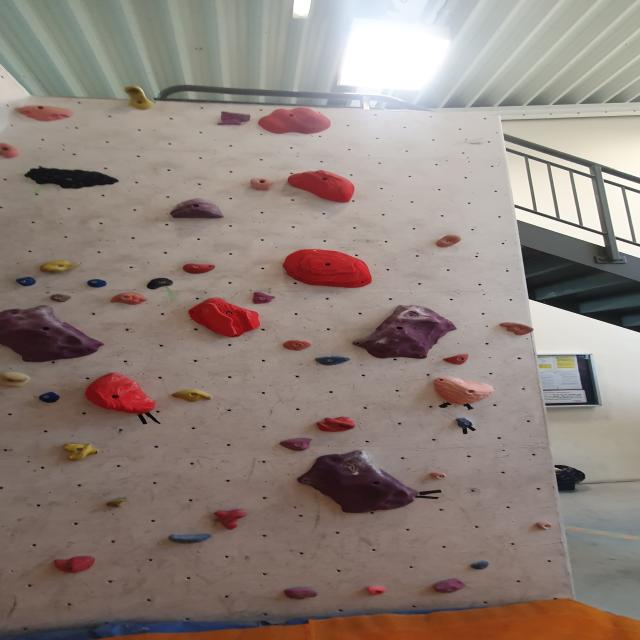Crimp: (293, 446, 422, 520), (0, 303, 105, 368), (346, 302, 456, 362), (281, 248, 380, 294), (278, 584, 321, 605), (428, 576, 470, 597), (165, 530, 216, 547), (168, 386, 216, 404), (310, 352, 354, 367), (216, 110, 252, 127), (442, 350, 474, 368), (453, 415, 483, 434), (179, 264, 218, 278), (281, 338, 316, 353), (34, 390, 67, 405), (251, 289, 279, 306), (102, 496, 134, 509), (466, 559, 496, 572), (366, 585, 391, 599), (13, 276, 42, 288), (46, 292, 74, 304), (84, 278, 112, 290), (428, 469, 452, 482)
Jug: (21, 169, 124, 196), (121, 84, 158, 113), (212, 508, 250, 534), (61, 442, 103, 464), (496, 319, 536, 339), (0, 368, 33, 388), (432, 234, 464, 250), (0, 140, 23, 161)
Pinch: (183, 295, 265, 339), (40, 259, 83, 278), (247, 177, 276, 193)
Pocket: (314, 416, 358, 436)
Sloper: (80, 370, 160, 416), (282, 168, 358, 205), (254, 105, 334, 137), (428, 372, 498, 408), (166, 197, 228, 224), (14, 101, 76, 125), (49, 554, 100, 576), (278, 437, 316, 456), (108, 290, 150, 307)
